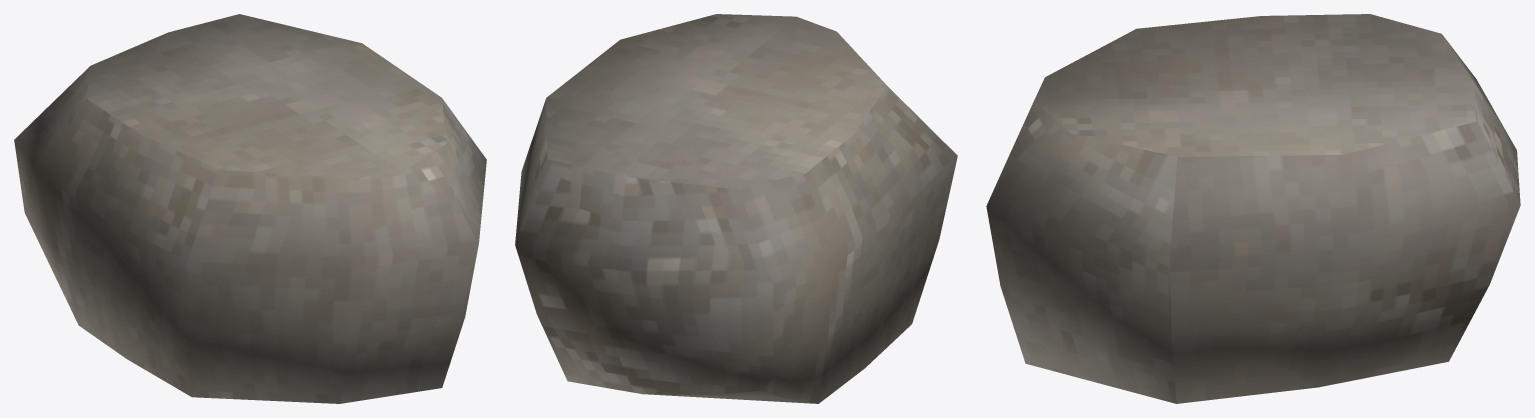
File: rock_6.fbx
The picture shows the model from 3 angles, left to right: view 1: azimuth 30°, elevation 25°; view 2: azimuth 150°, elevation 25°; view 3: azimuth 270°, elevation 25°; orthographic projection. The views are drawn at different scales.
Visible parts, largest first — view 1: rock_6; view 2: rock_6; view 3: rock_6.
Boxes of the visible parts, box(x1,y1,x2,y2) form: rock_6: box(14, 14, 486, 403); rock_6: box(515, 14, 957, 403); rock_6: box(986, 14, 1520, 403).
Bounding box in the file's own units: 150 × 184 × 92.72.
